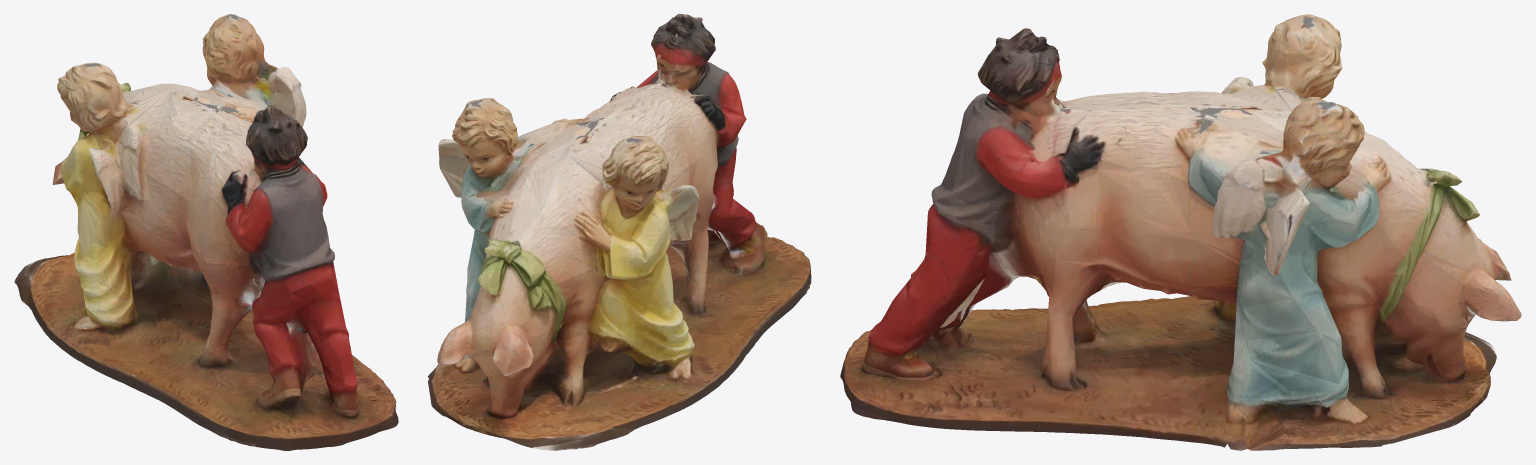
File: preview.glb
The picture shows the model from 3 angles, left to right: view 1: azimuth 30°, elevation 25°; view 2: azimuth 150°, elevation 25°; view 3: azimuth 270°, elevation 25°; orthographic projection. The views are drawn at different scales.
Visible parts, largest first — view 1: Object_2; view 2: Object_2; view 3: Object_2.
Part boxes in pixels (<box>): Object_2: <box>14,14,398,450</box>; Object_2: <box>427,14,811,450</box>; Object_2: <box>840,14,1521,450</box>.
Bounding box in the file's own units: 1.23 × 1.3 × 2.29.
1 material, 1 textured.
